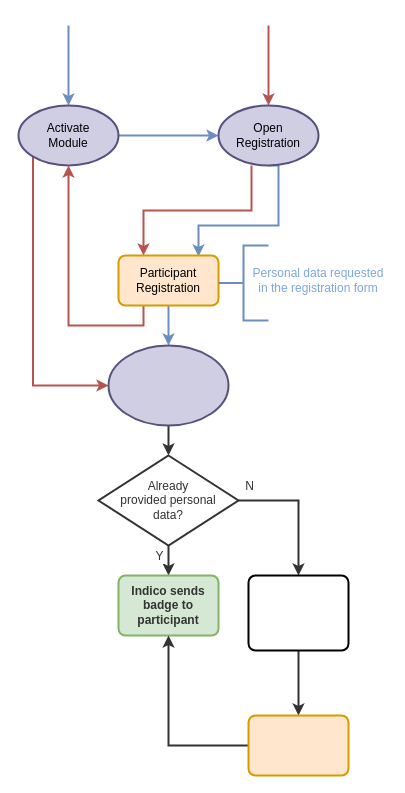
Image size: 405x793. Some labels were removed from this diagram. The shapes that lost their labels are listed below. From the top down, each one's centre as x and y in pixels, then its label:
At (168,385): "Request badge for participant".
At (298,612): "Indico sends e-mail asking personal data to participant".
At (298,745): "Participant fills in form".
